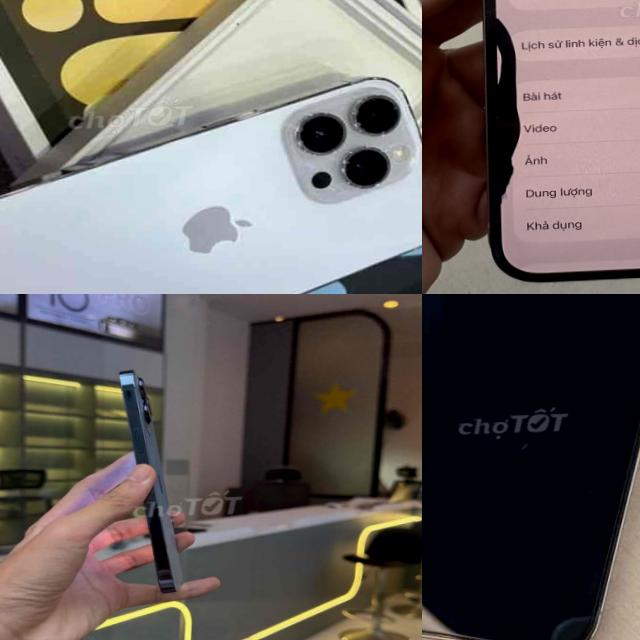screen_defect: (474, 2, 554, 249)
